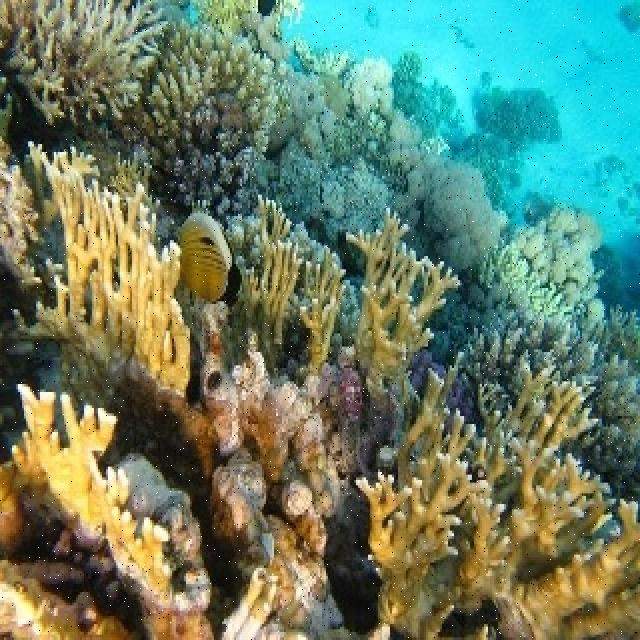fish: (180, 213, 244, 307)
reefs: (356, 354, 638, 637), (202, 310, 397, 637), (0, 384, 216, 637), (26, 139, 189, 409), (348, 206, 460, 387)
